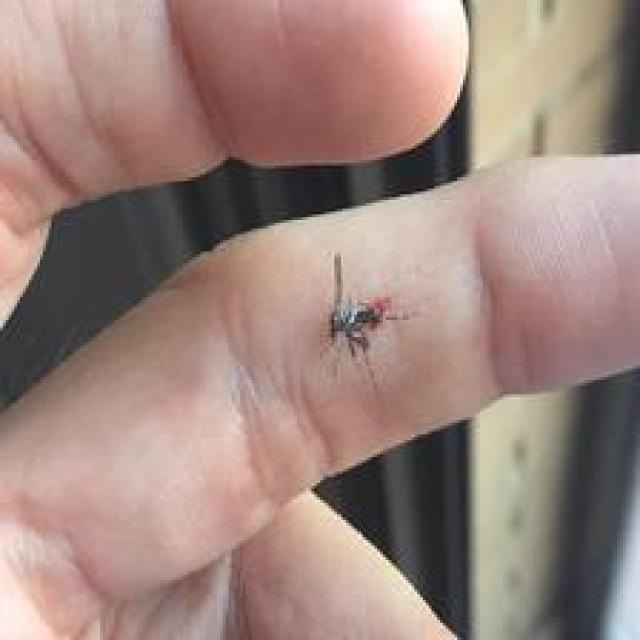Aedes albopictus: (324, 251, 413, 366)
